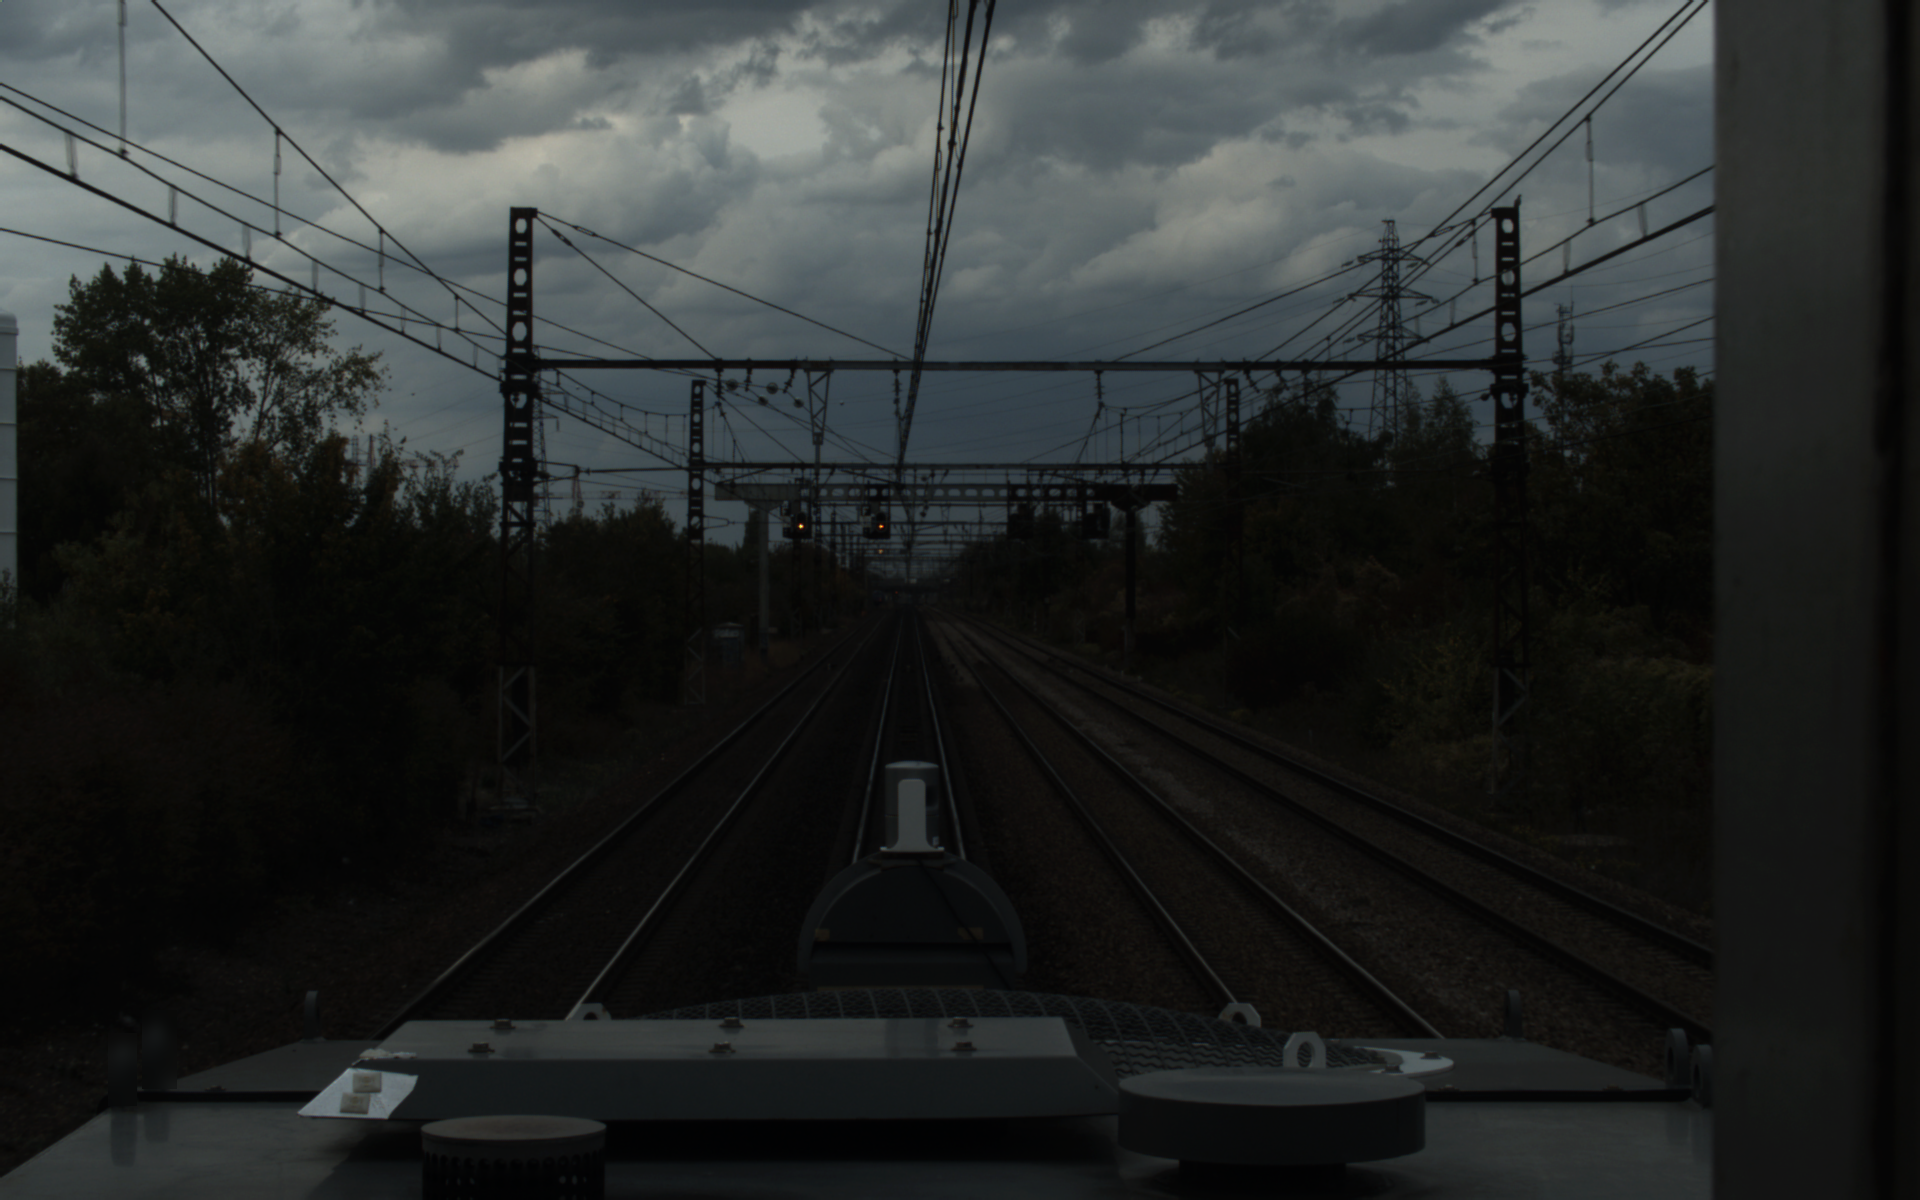Blinking: (874, 509, 887, 532)
Fixed: (793, 510, 809, 532)
